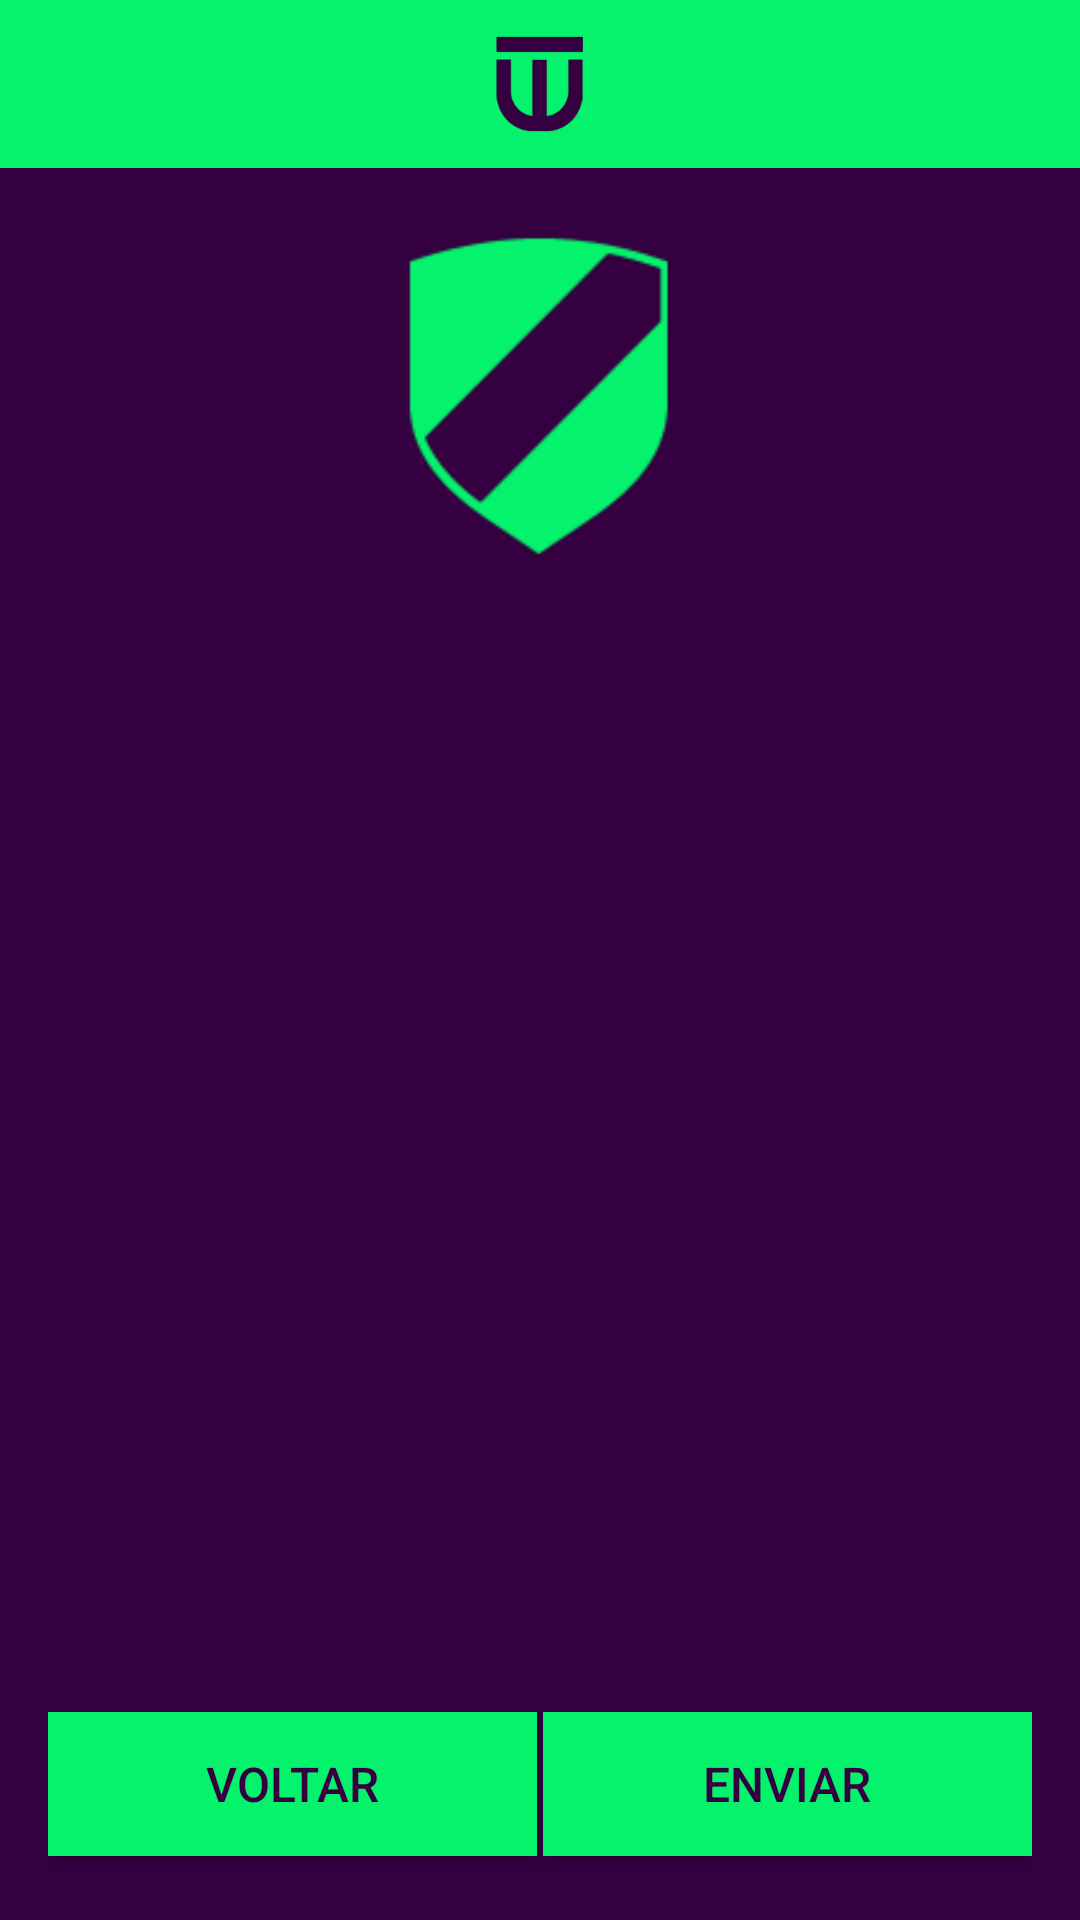

Named icons in this screenshot (1080px×1920px) and their centers, [x,y]:
team: [538,396]
